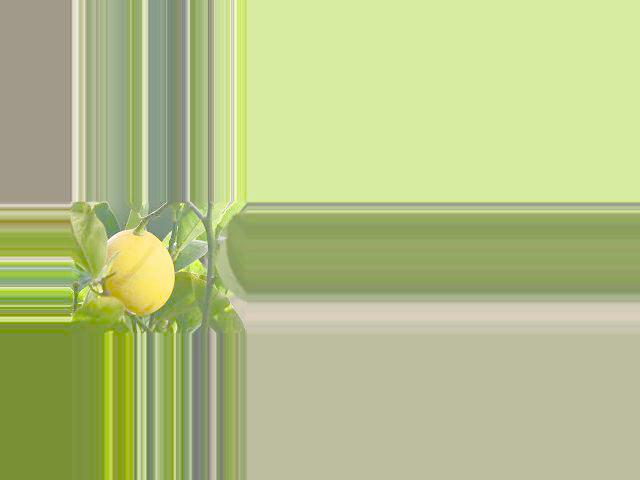lemon: (94, 224, 196, 319)
